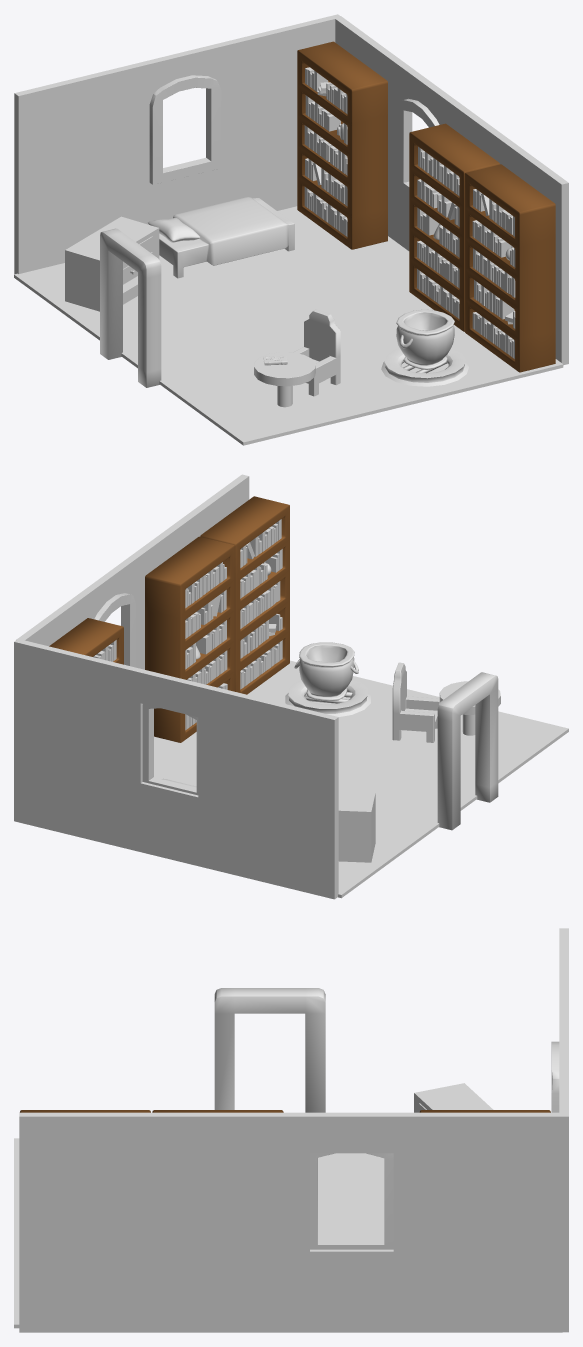
The model's file is witch_room2.fbx.
The picture shows the model from 3 angles, top to bottom: view 1: azimuth 30°, elevation 25°; view 2: azimuth 150°, elevation 25°; view 3: azimuth 270°, elevation 25°; orthographic projection. The views are drawn at different scales.
Parts seen in each view (by area): view 1: floor, wall 2, bookshelf 4, bookshelf 1, wall 1, bookshelf 3, doorframe, bed, books2, books 3, books 1, window (+7 smaller); view 2: wall 2, floor, bookshelf 3, wall 1, bookshelf 4, doorframe, books 1, books2, cauldron main, drawer 3, chair, bookshelf 1 (+4 smaller); view 3: wall 1, doorframe, floor, wall 2, window.001, drawer 3, window.
Boxes of the visible parts, bbox=[...] form: floor: bbox=[14, 206, 563, 445]; wall 2: bbox=[14, 14, 340, 274]; bookshelf 4: bbox=[465, 164, 555, 372]; bookshelf 1: bbox=[297, 41, 387, 249]; wall 1: bbox=[334, 16, 568, 365]; bookshelf 3: bbox=[409, 123, 499, 331]; doorframe: bbox=[100, 228, 161, 387]; bed: bbox=[159, 197, 294, 278]; books2: bbox=[417, 146, 459, 318]; books 3: bbox=[304, 67, 347, 236]; books 1: bbox=[472, 189, 515, 358]; window: bbox=[149, 75, 221, 184]; wall 2: bbox=[14, 640, 338, 899]; floor: bbox=[154, 660, 568, 898]; bookshelf 3: bbox=[145, 536, 234, 742]; wall 1: bbox=[16, 474, 249, 669]; bookshelf 4: bbox=[200, 496, 289, 694]; doorframe: bbox=[437, 672, 498, 830]; books 1: bbox=[240, 519, 282, 689]; books2: bbox=[185, 562, 227, 730]; cauldron main: bbox=[294, 642, 358, 700]; drawer 3: bbox=[338, 791, 375, 862]; chair: bbox=[392, 662, 439, 742]; bookshelf 1: bbox=[49, 618, 123, 664]; wall 1: bbox=[19, 1112, 562, 1332]; doorframe: bbox=[214, 988, 325, 1112]; floor: bbox=[14, 1138, 384, 1328]; wall 2: bbox=[559, 928, 568, 1332]; window.001: bbox=[310, 1153, 393, 1249]; drawer 3: bbox=[414, 1083, 493, 1112]; window: bbox=[551, 1041, 559, 1112].
Bounding box in the file's own units: 4626 × 2363 × 5474.
